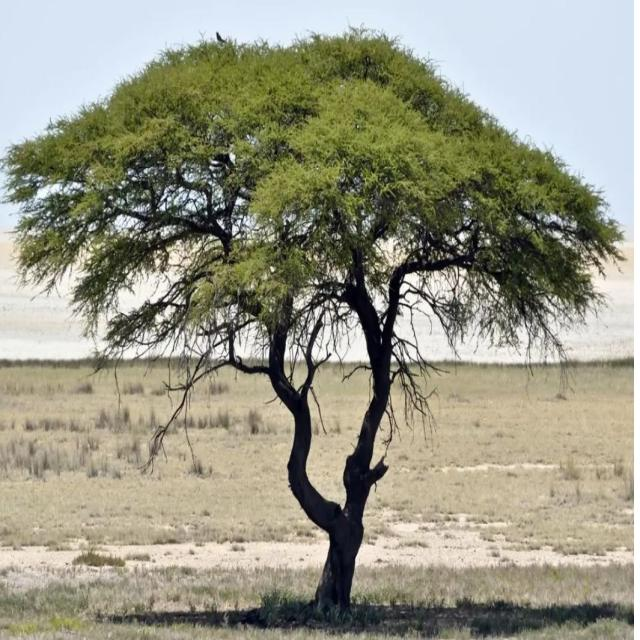Acacia: (11, 28, 602, 599)
